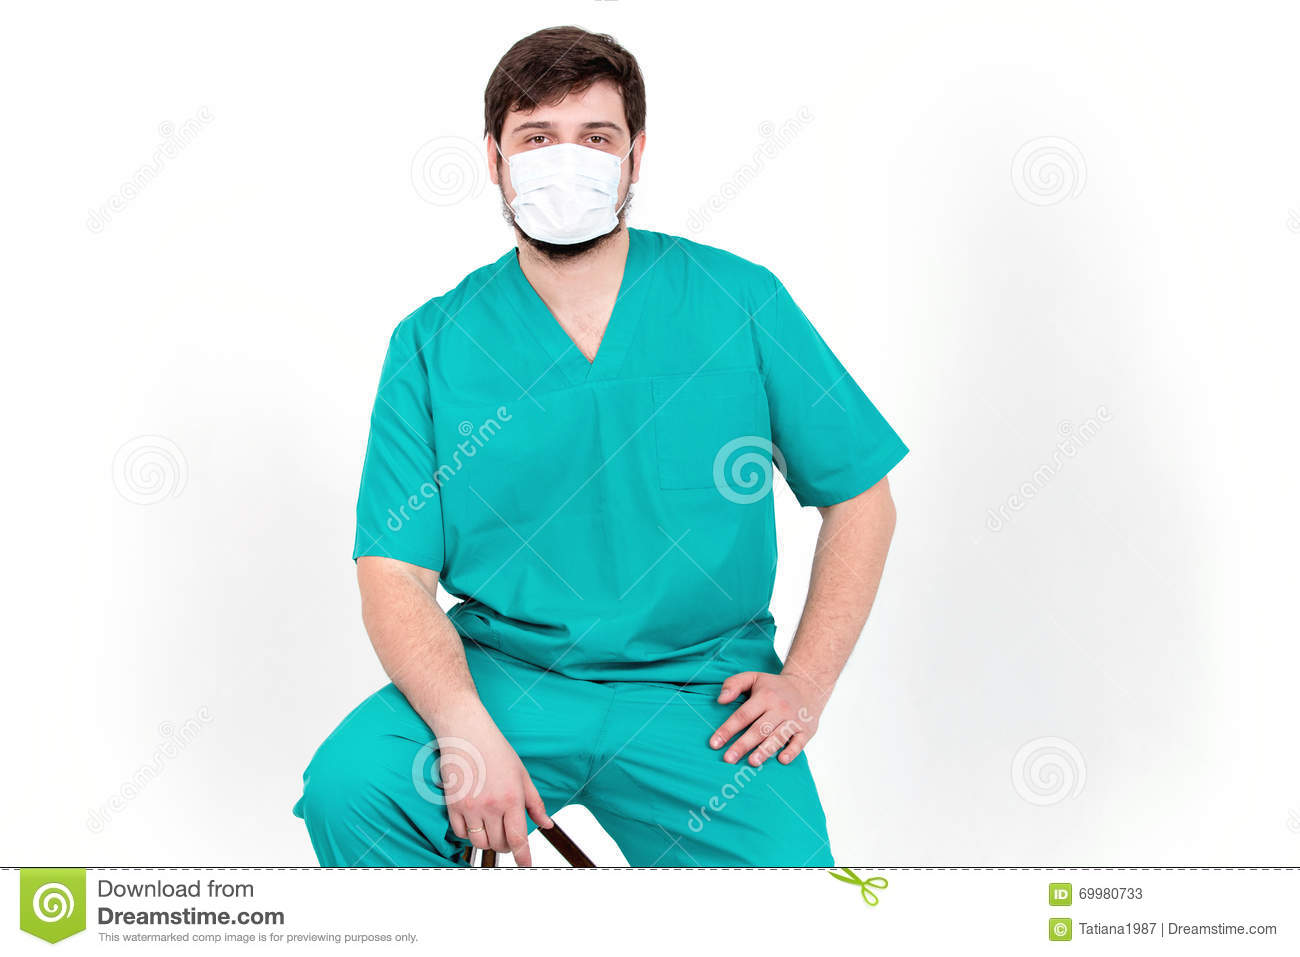mask: (495, 149, 635, 241)
